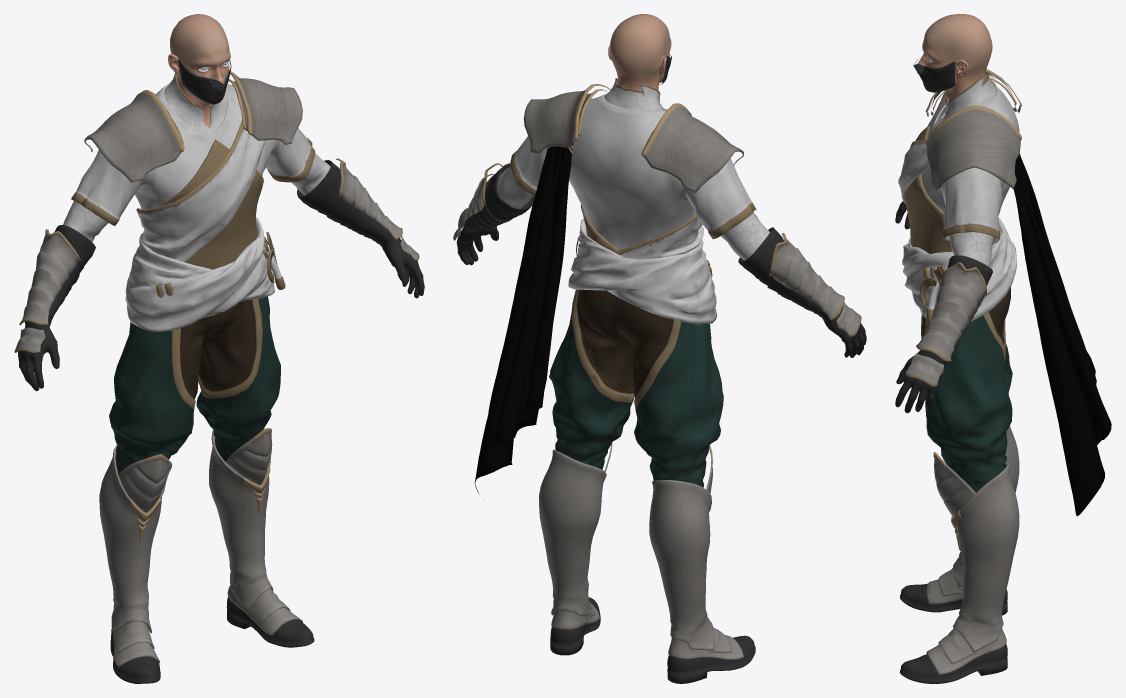
3 views of the same model, side by side, from view 1: azimuth 30°, elevation 25°; view 2: azimuth 150°, elevation 25°; view 3: azimuth 270°, elevation 25° (orthographic).
Visible parts, largest first — view 1: GM_0088_T03_Body, GM_0088_T03_Boots, GM_0088_T03_Pants, GM_0088_T03_Glove, GM_0088_T03_Shoulder, GM_BaseHead, GM_0088_T03_Helmet; view 2: GM_0088_T03_Body, GM_0088_T03_Pants, GM_0088_T03_Boots, GM_0088_T03_Cape, GM_0088_T03_Glove, GM_0088_T03_Shoulder, GM_BaseHead; view 3: GM_0088_T03_Boots, GM_0088_T03_Body, GM_0088_T03_Cape, GM_0088_T03_Pants, GM_0088_T03_Glove, GM_0088_T03_Shoulder, GM_BaseHead, GM_0088_T03_Helmet.
Boxes of the visible parts, x1,y1,x2,y2 form: GM_0088_T03_Body: [63, 73, 330, 331]; GM_0088_T03_Boots: [99, 428, 314, 683]; GM_0088_T03_Pants: [109, 296, 280, 511]; GM_0088_T03_Glove: [14, 158, 424, 390]; GM_0088_T03_Shoulder: [84, 71, 302, 182]; GM_BaseHead: [168, 14, 230, 115]; GM_0088_T03_Helmet: [178, 59, 231, 104]; GM_0088_T03_Body: [497, 78, 770, 324]; GM_0088_T03_Pants: [549, 289, 723, 487]; GM_0088_T03_Boots: [538, 443, 755, 683]; GM_0088_T03_Cape: [474, 143, 573, 494]; GM_0088_T03_Glove: [453, 163, 866, 357]; GM_0088_T03_Shoulder: [523, 84, 743, 193]; GM_BaseHead: [608, 14, 671, 90]; GM_0088_T03_Boots: [900, 426, 1019, 683]; GM_0088_T03_Body: [898, 71, 1019, 322]; GM_0088_T03_Cape: [1013, 153, 1111, 516]; GM_0088_T03_Pants: [921, 287, 1012, 492]; GM_0088_T03_Glove: [895, 201, 992, 413]; GM_0088_T03_Shoulder: [925, 69, 1021, 191]; GM_BaseHead: [918, 14, 992, 101]; GM_0088_T03_Helmet: [913, 57, 955, 92].
Bounding box in the file's own units: 1.26 × 1.89 × 0.5944.
10 materials, 9 textured.
